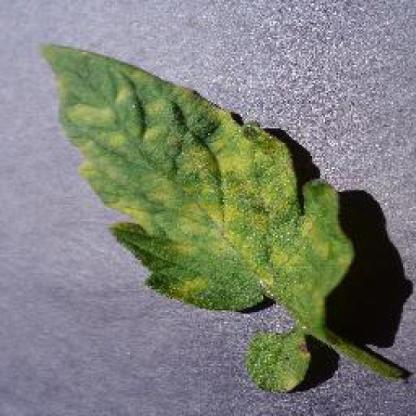Tomato_Leaf_Mold: (33, 41, 352, 318)
